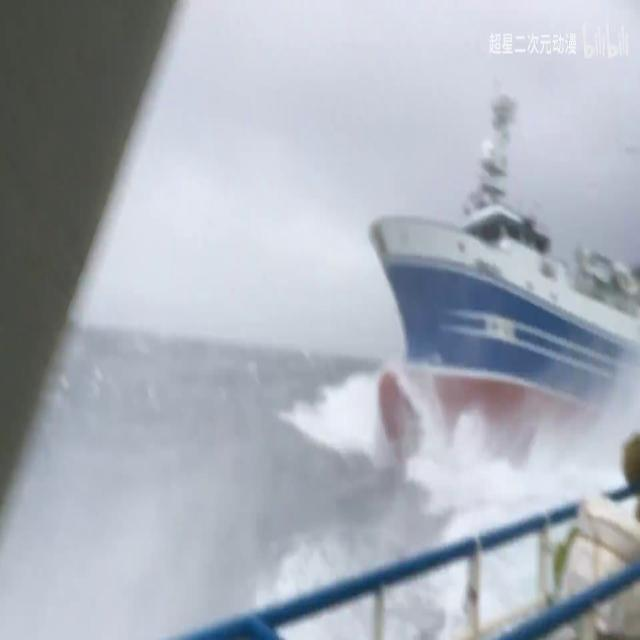houseboat: (356, 97, 640, 484)
